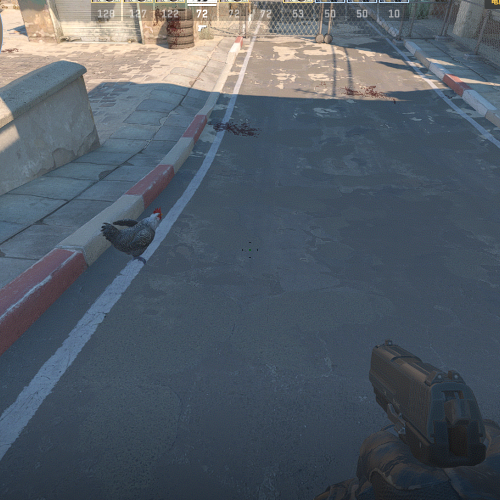chicken: (102, 207, 163, 264)
